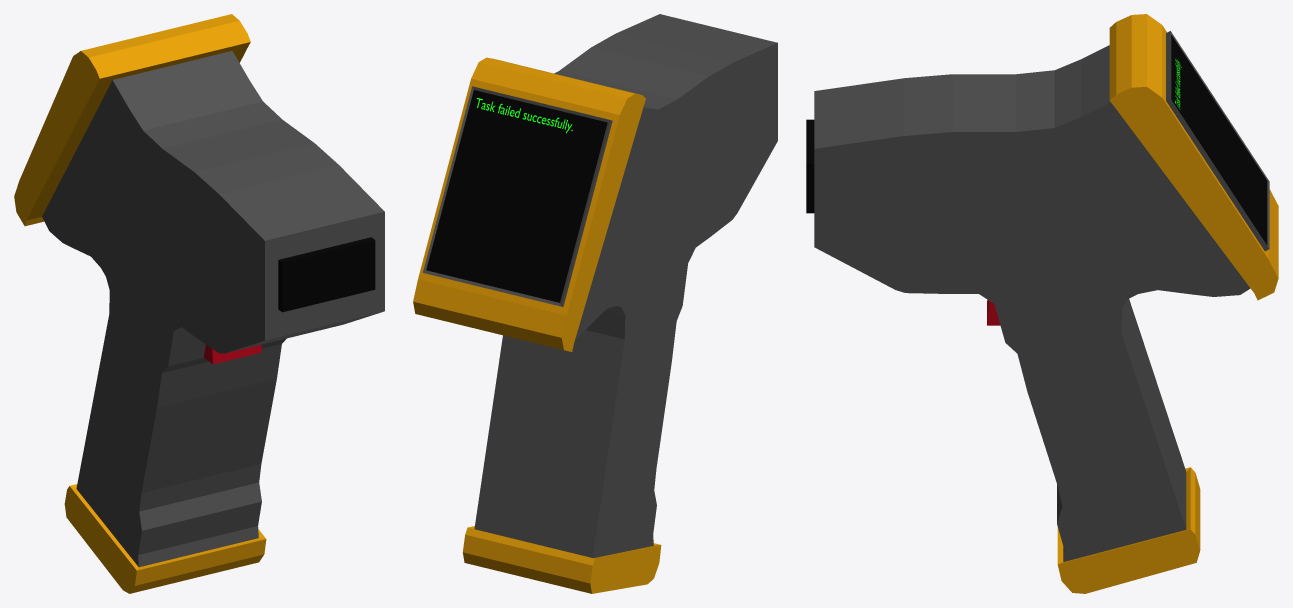
The model's file is priceTool.fbx.
3 renders of one model, left to right at view 1: azimuth 30°, elevation 25°; view 2: azimuth 150°, elevation 25°; view 3: azimuth 270°, elevation 25°, orthographic.
Parts seen in each view (by area): view 1: Cube, Cube.002, Cube.001; view 2: Cube, Text; view 3: Cube, Cube.002.
Part boxes in pixels (<box>): Cube: <box>14,14,384,593</box>; Cube.002: <box>278,237,375,312</box>; Cube.001: <box>204,344,261,364</box>; Cube: <box>413,14,777,593</box>; Text: <box>476,98,572,133</box>; Cube: <box>814,14,1278,593</box>; Cube.002: <box>806,119,814,213</box>.
Bounding box in the file's own units: 148 × 487 × 407.
